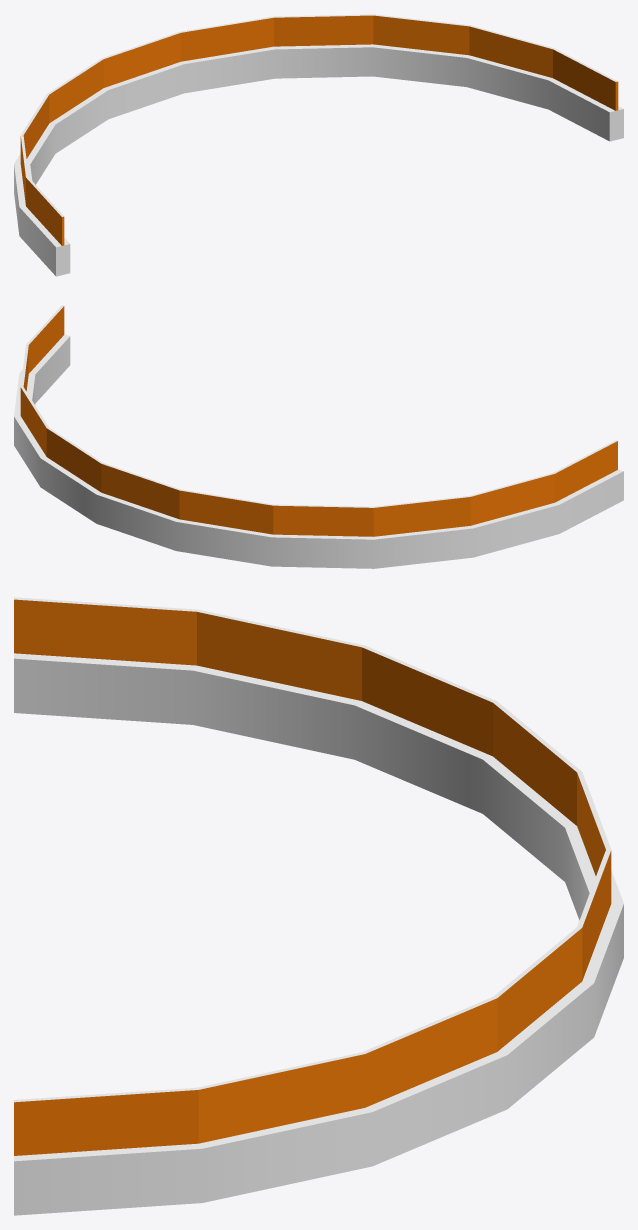
The model's file is BarrierDHalfCircle.fbx.
The picture shows the model from 3 angles, top to bottom: view 1: azimuth 30°, elevation 25°; view 2: azimuth 150°, elevation 25°; view 3: azimuth 270°, elevation 25°; orthographic projection. The views are drawn at different scales.
Parts seen in each view (by area): view 1: BarrierDHalfCircle; view 2: BarrierDHalfCircle; view 3: BarrierDHalfCircle.
Part boxes in pixels (<box>): BarrierDHalfCircle: <box>14,14,623,276</box>; BarrierDHalfCircle: <box>14,305,623,568</box>; BarrierDHalfCircle: <box>14,597,623,1215</box>.
Size of the model in its own units: 560 by 54.79 by 280.
Materials: 1 (1 with a texture image).
